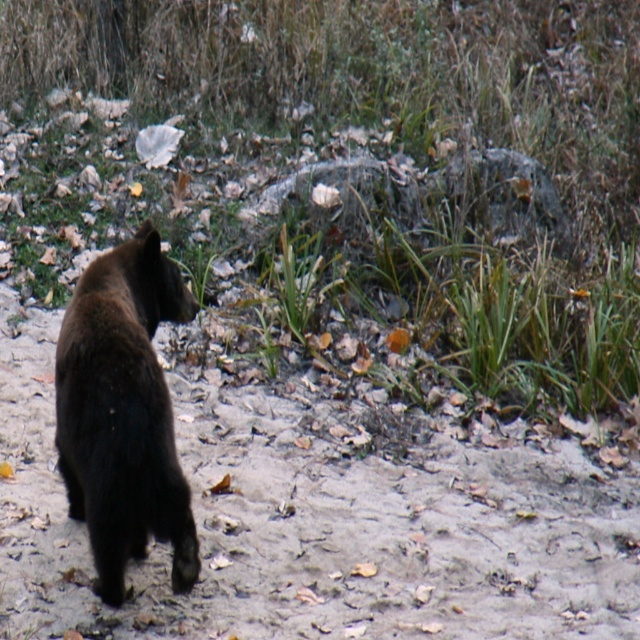Brown bear: (54, 217, 206, 605)
